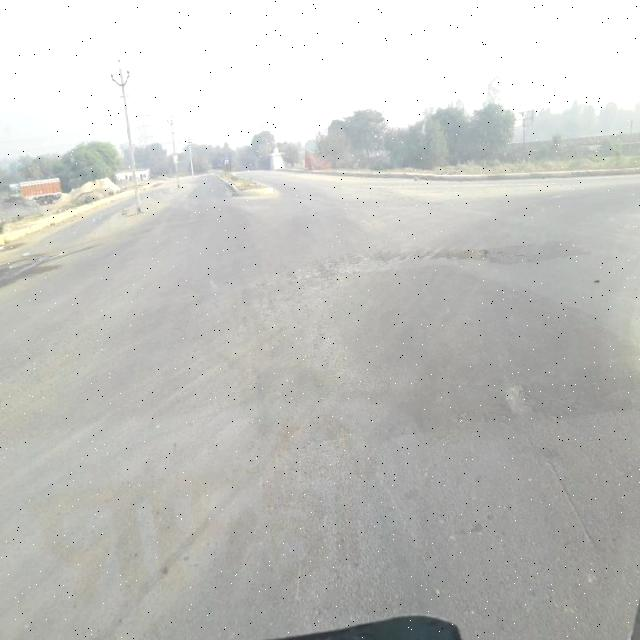D00: (532, 441, 607, 566)
D40: (267, 241, 520, 283), (486, 374, 547, 419)
